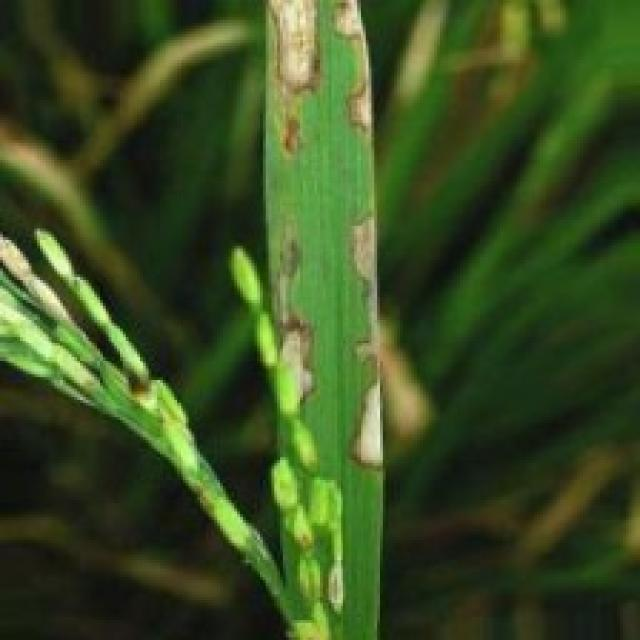Bacterial_Blight: (346, 199, 386, 367), (264, 0, 327, 104), (270, 320, 320, 424), (343, 376, 393, 475), (322, 0, 378, 61), (339, 72, 387, 143), (271, 236, 305, 320)
Brown_Spot: (275, 114, 306, 162)
